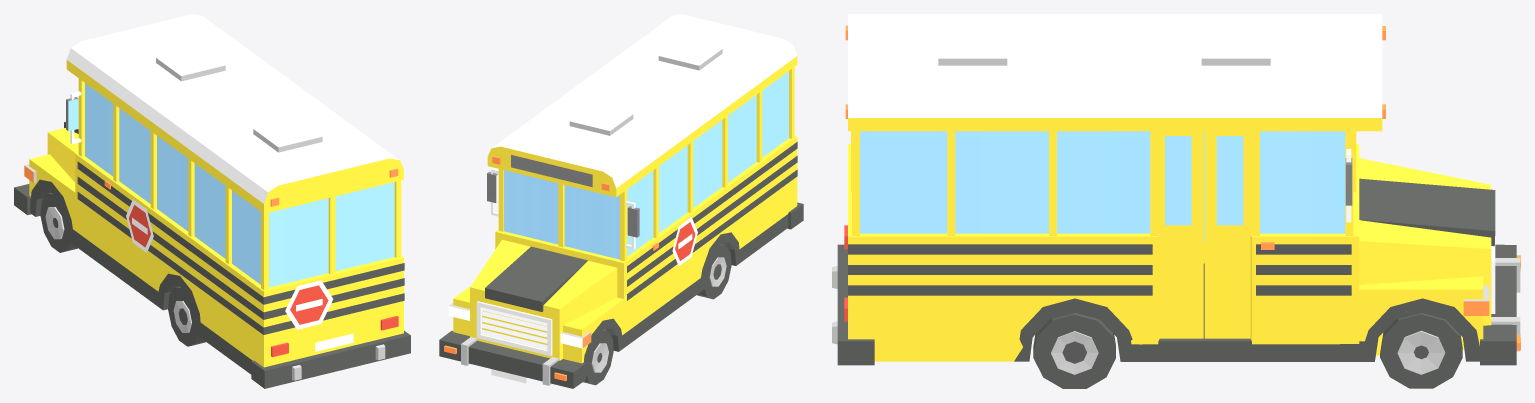
The model's file is transport_bus.001.glb.
3 renders of one model, left to right at view 1: azimuth 30°, elevation 25°; view 2: azimuth 150°, elevation 25°; view 3: azimuth 270°, elevation 25°, orthographic. The views are drawn at different scales.
Parts seen in each view (by area): view 1: transport_bus.001(Clone); view 2: transport_bus.001(Clone); view 3: transport_bus.001(Clone).
Boxes of the visible parts, x1,y1,x2,y2 form: transport_bus.001(Clone): (14, 14, 410, 388); transport_bus.001(Clone): (439, 14, 803, 388); transport_bus.001(Clone): (832, 14, 1520, 388).
Bounding box in the file's own units: 2.02 × 2.62 × 5.44.
1 material, 1 textured.
